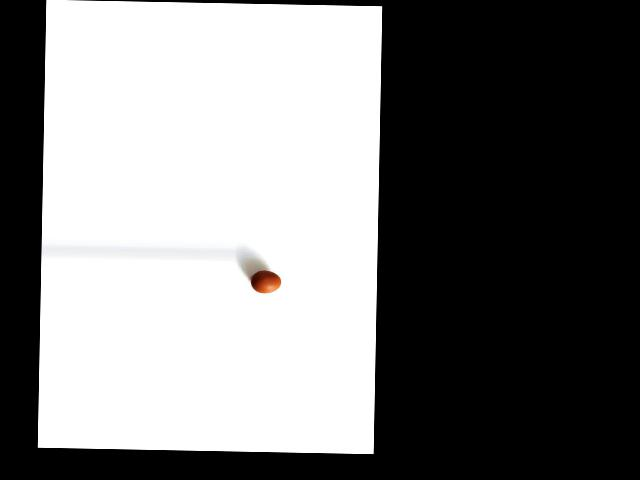egg: (250, 270, 281, 293)
